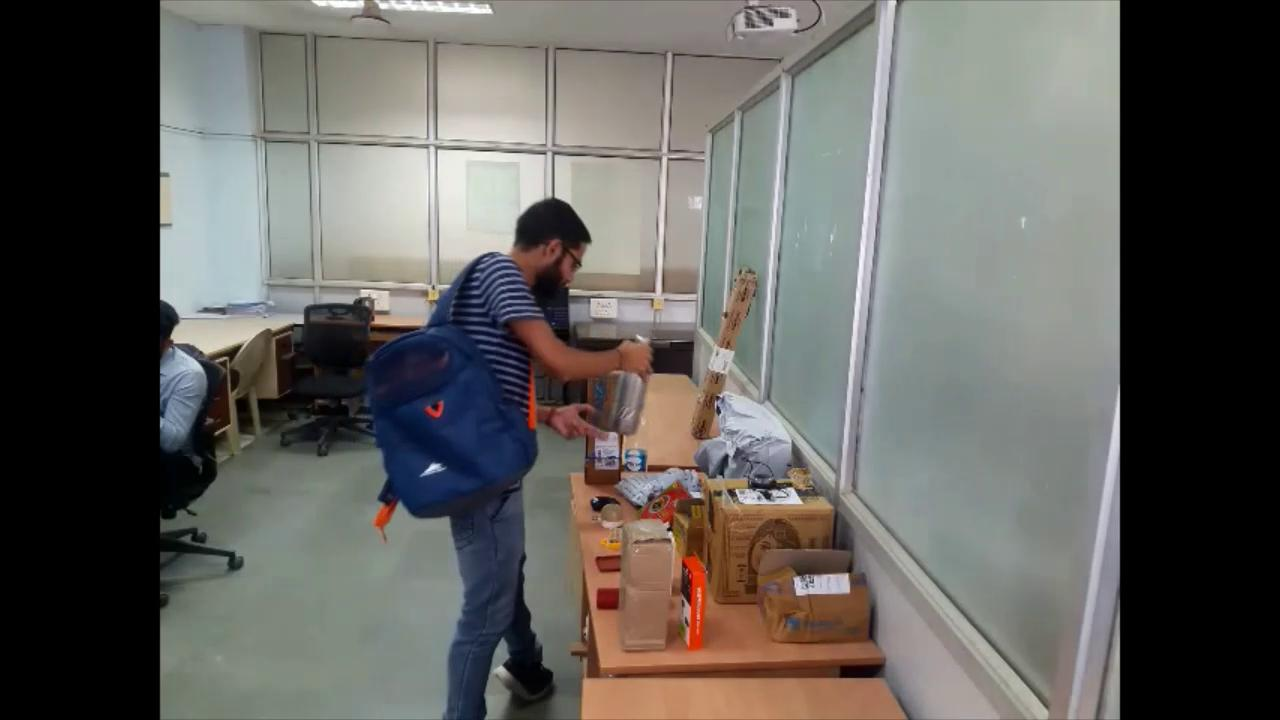Normal: (350, 154, 658, 720)
